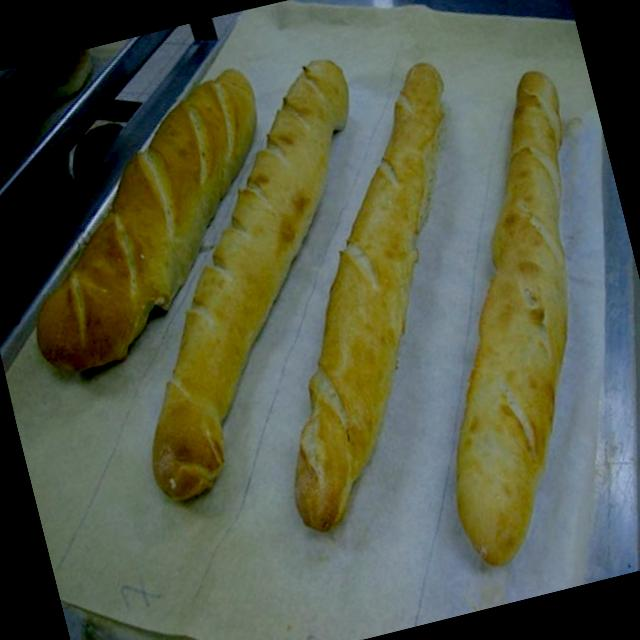Bread: (180, 27, 566, 561), (351, 49, 640, 598)
